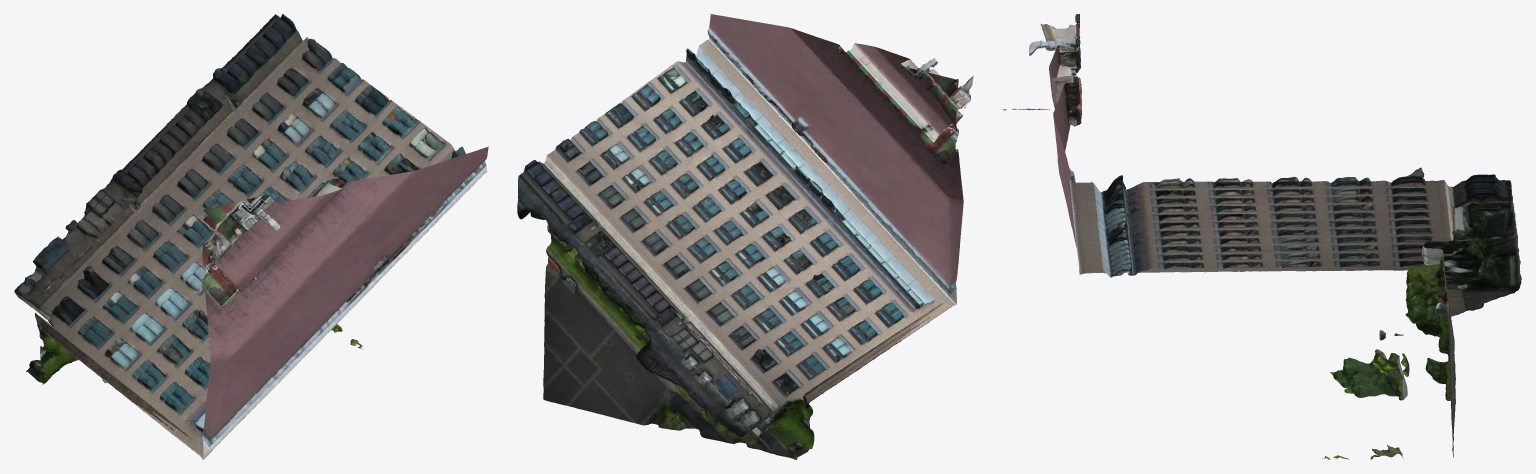
File: Tile_+008_+018.fbx
3 renders of one model, left to right at view 1: azimuth 30°, elevation 25°; view 2: azimuth 150°, elevation 25°; view 3: azimuth 270°, elevation 25°, orthographic. The views are drawn at different scales.
Visible parts, largest first — view 1: DefaultName; view 2: DefaultName; view 3: DefaultName.
Boxes of the visible parts, x1,y1,x2,y2 form: DefaultName: [14, 14, 488, 459]; DefaultName: [517, 14, 973, 459]; DefaultName: [1003, 14, 1521, 459].
Size of the model in its own units: 22.54 by 22.54 by 34.88.
